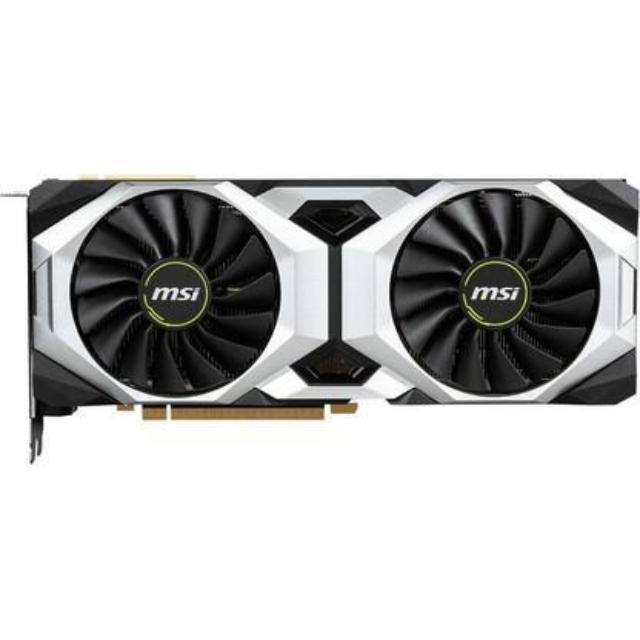GPU: (22, 162, 638, 422)
